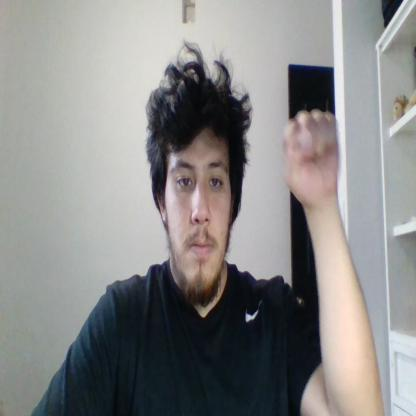S: (281, 108, 339, 204)
